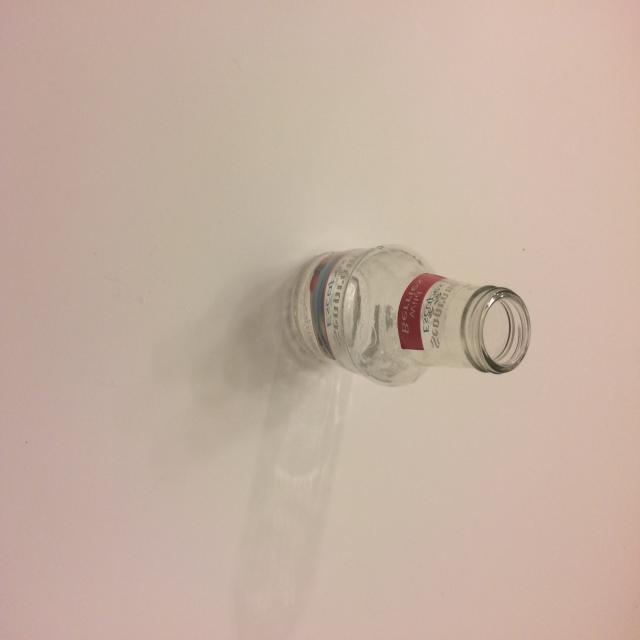glass: (288, 242, 532, 387)
